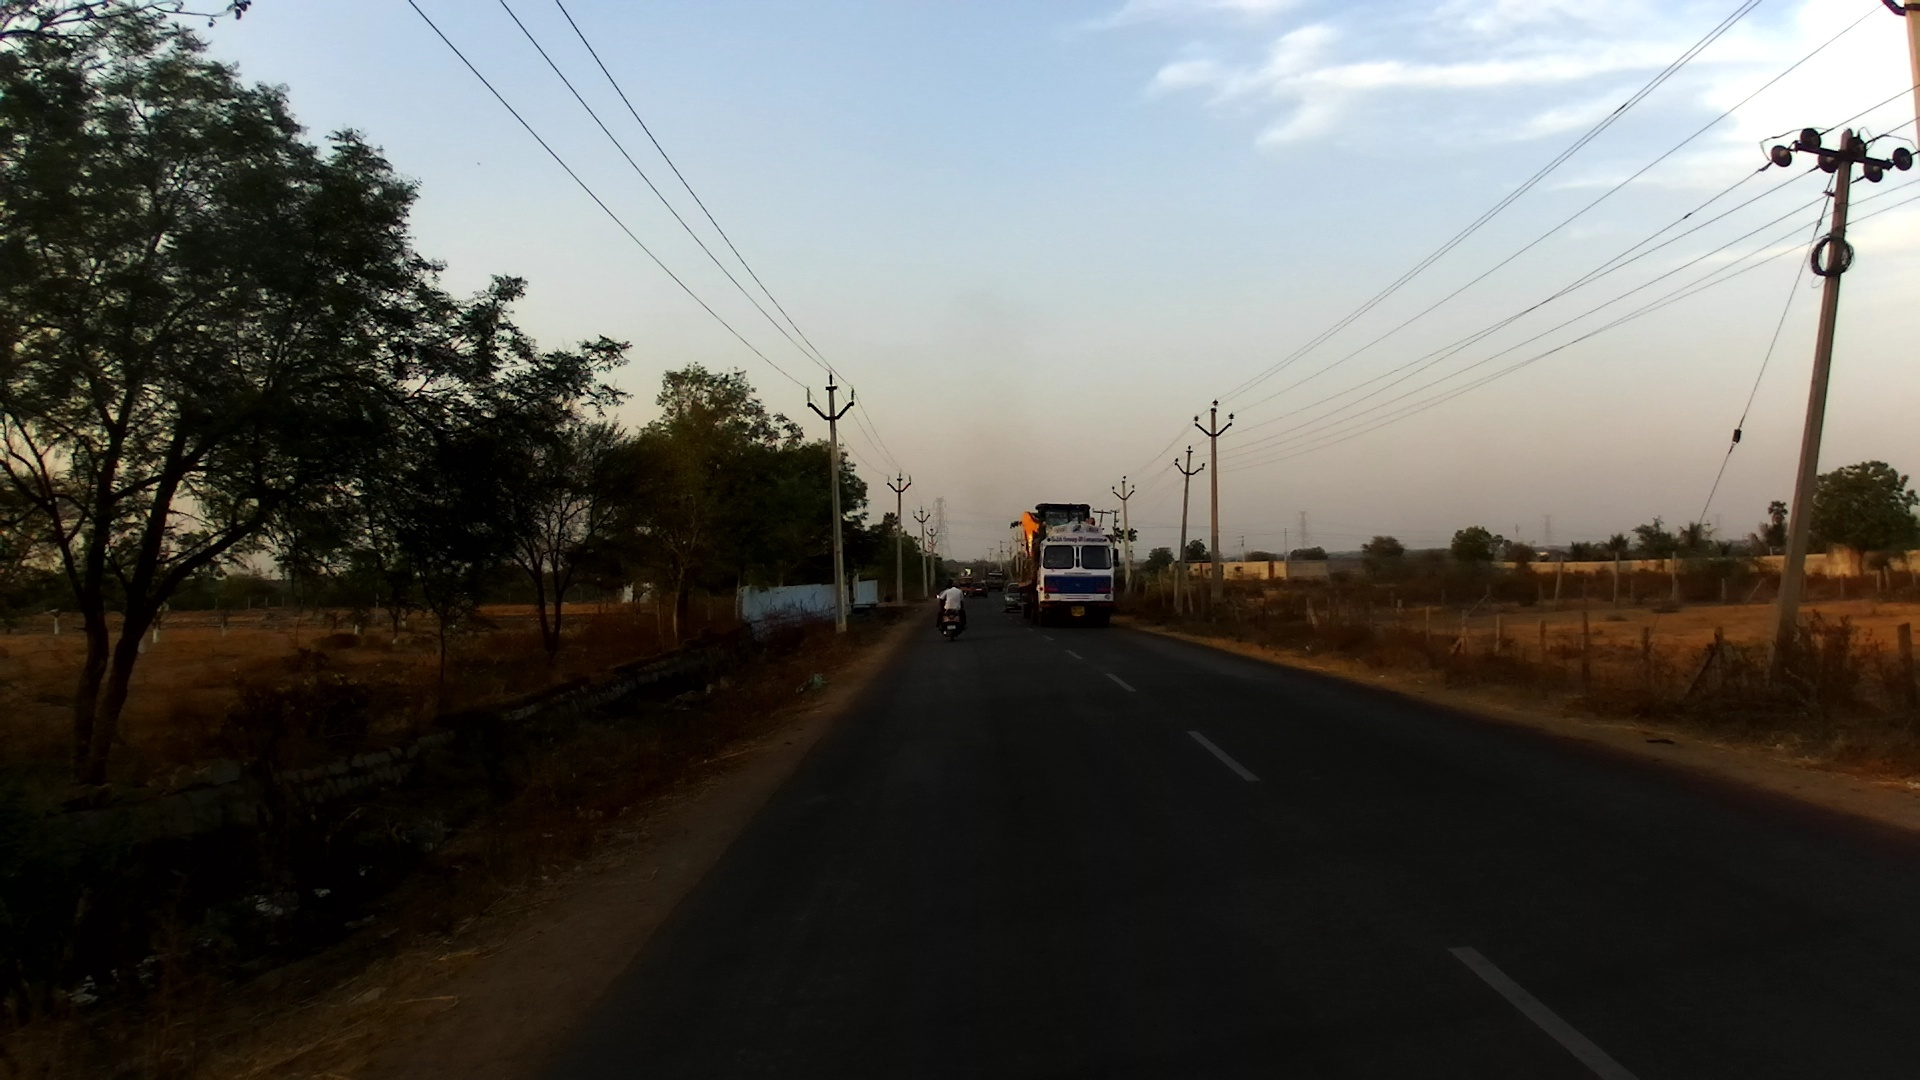autorickshaw: (958, 567, 972, 589)
car: (1000, 580, 1022, 614), (986, 570, 1006, 591), (969, 580, 992, 599)
motorcycle: (934, 591, 970, 642)
rider: (937, 580, 969, 633), (941, 577, 958, 613)
truck: (1020, 503, 1122, 630)
